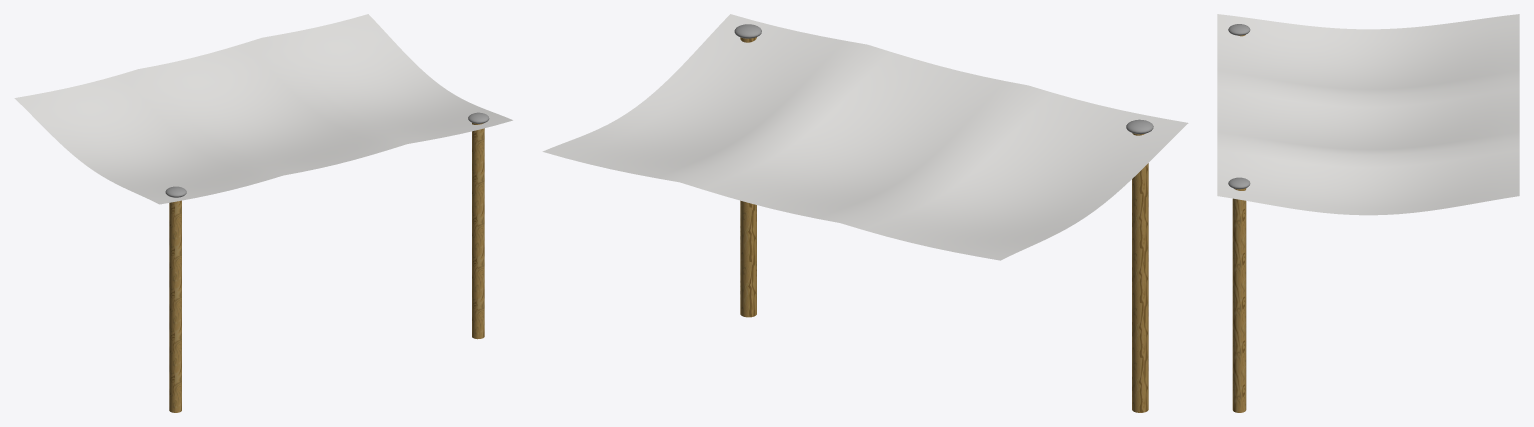
Rendered from shop.fbx.
The picture shows the model from 3 angles, left to right: view 1: azimuth 30°, elevation 25°; view 2: azimuth 150°, elevation 25°; view 3: azimuth 270°, elevation 25°; orthographic projection. The views are drawn at different scales.
Parts seen in each view (by area): view 1: pasted__pSphere4; view 2: pasted__pSphere4; view 3: pasted__pSphere4.
Boxes of the visible parts, x1=… form: pasted__pSphere4: x1=14, y1=14, x2=512, y2=412; pasted__pSphere4: x1=542, y1=14, x2=1188, y2=412; pasted__pSphere4: x1=1217, y1=14, x2=1519, y2=412.
Bounding box in the file's own units: 16.26 × 9.71 × 11.56.
